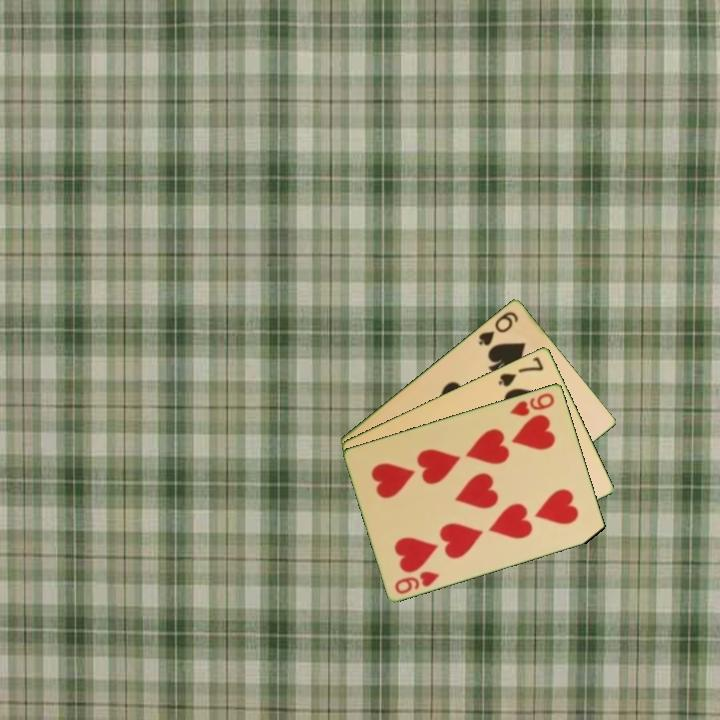6s: (475, 307, 521, 348)
7s: (495, 353, 546, 389)
9h: (507, 389, 558, 419), (391, 567, 442, 597)
